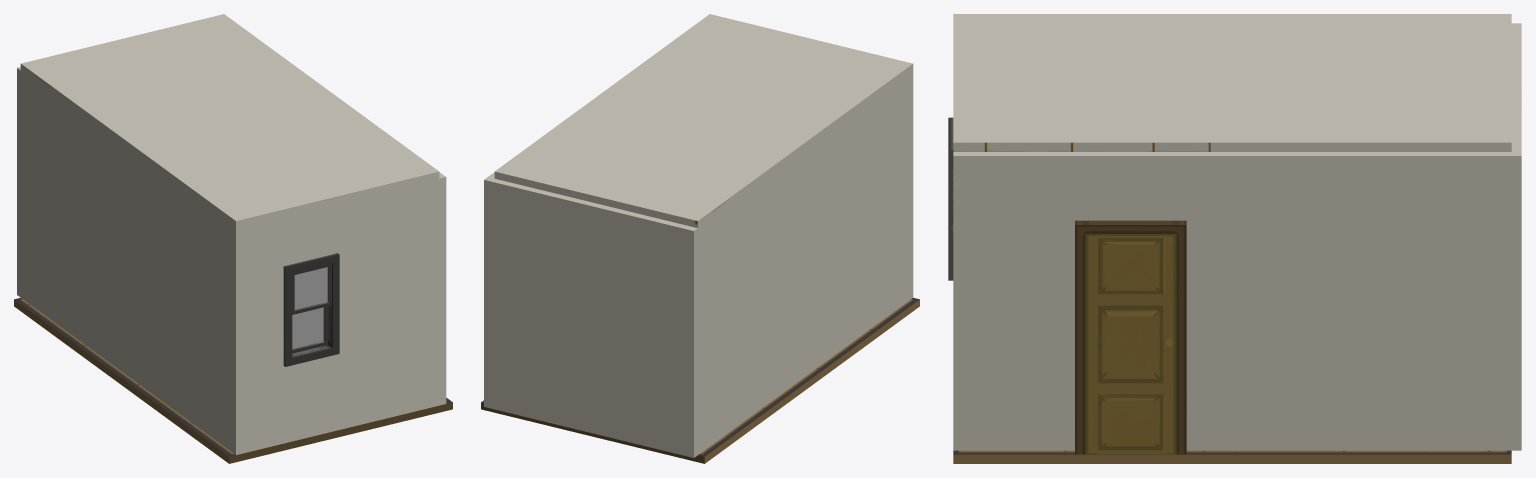
Rendered from room-empty-textured.fbx.
3 views of the same model, side by side, from view 1: azimuth 30°, elevation 25°; view 2: azimuth 150°, elevation 25°; view 3: azimuth 270°, elevation 25° (orthographic). The views are drawn at different scales.
Visible parts, largest first — view 1: wall, floor1, floor, windowFrame, windowglass1, windowglass2, window1; view 2: wall, floor1, floor; view 3: wall, floor1, pCube7, floor, doorFrame, windowFrame.
Part boxes in pixels (bbox=[...]): wall: bbox=[17, 67, 446, 454]; floor1: bbox=[20, 14, 439, 227]; floor: bbox=[14, 297, 452, 463]; windowFrame: bbox=[283, 253, 339, 366]; windowglass1: bbox=[294, 267, 327, 309]; windowglass2: bbox=[292, 307, 323, 348]; window1: bbox=[292, 263, 331, 314]; wall: bbox=[484, 71, 913, 457]; floor1: bbox=[494, 14, 913, 227]; floor: bbox=[481, 297, 919, 463]; wall: bbox=[953, 23, 1521, 450]; floor1: bbox=[953, 14, 1511, 151]; pCube7: bbox=[1085, 234, 1176, 454]; floor: bbox=[953, 450, 1511, 463]; doorFrame: bbox=[1075, 220, 1186, 454]; windowFrame: bbox=[948, 117, 953, 280].
Size of the model in its own units: 33 by 38 by 56.5.
